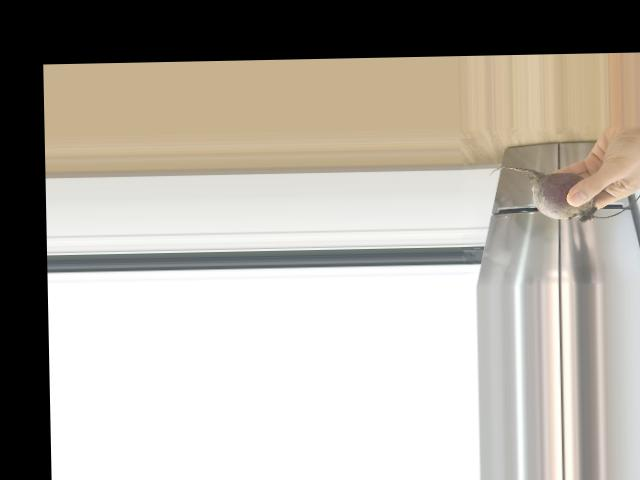beet: (487, 163, 640, 223)
